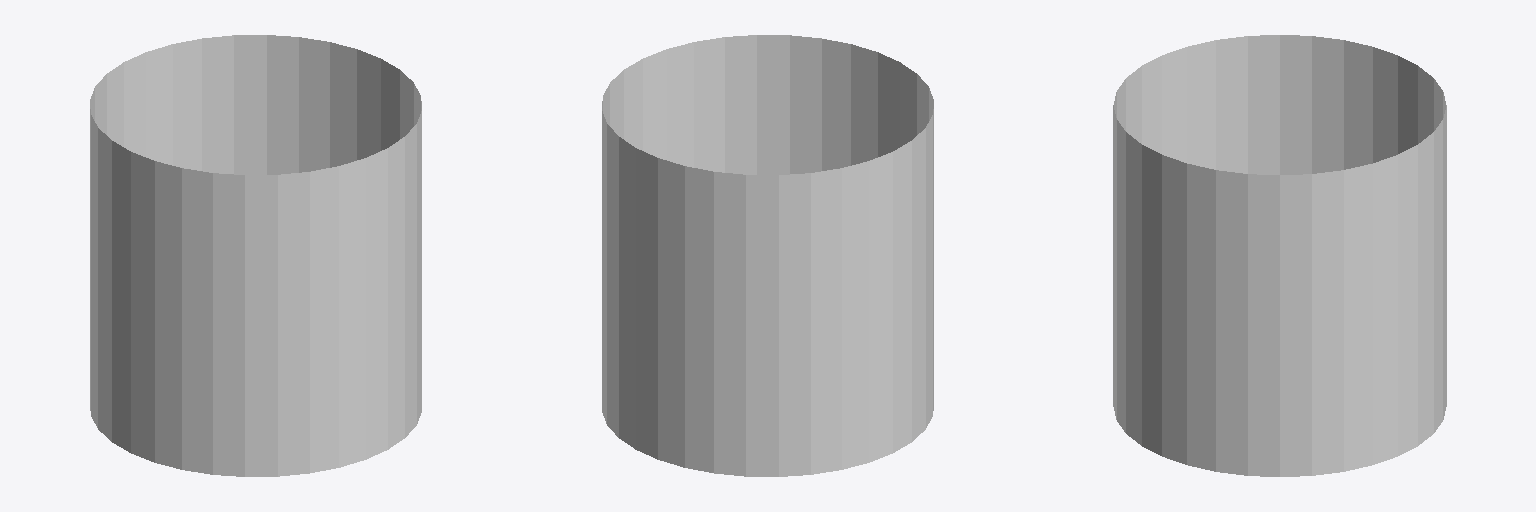
File: start_finish_collider.sgm.obj
3 renders of one model, left to right at view 1: azimuth 30°, elevation 25°; view 2: azimuth 150°, elevation 25°; view 3: azimuth 270°, elevation 25°, orthographic.
Parts seen in each view (by area): view 1: 0; view 2: 0; view 3: 0.
Part boxes in pixels (x1,y1,x2,y2): 0: (90, 35, 421, 476); 0: (602, 35, 933, 476); 0: (1113, 35, 1446, 476).
Bounding box in the file's own units: 1 × 1 × 1.